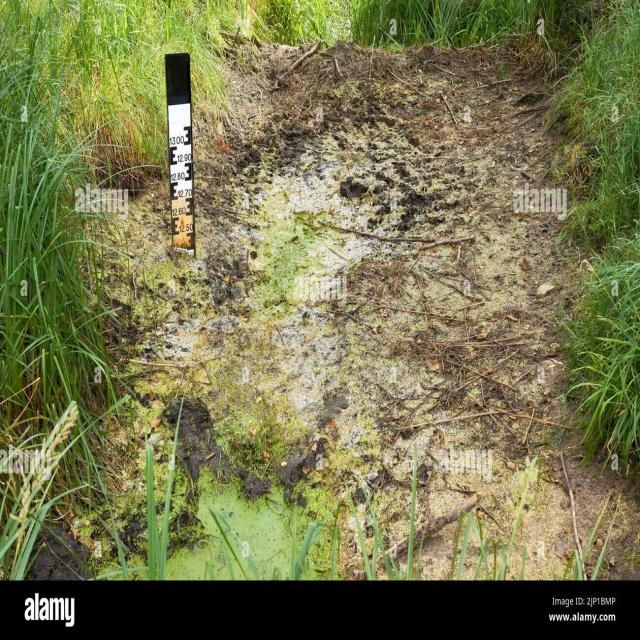ruler: (164, 97, 198, 258)
value: (172, 240, 189, 254), (177, 150, 192, 164), (171, 205, 187, 218), (171, 169, 185, 183), (169, 134, 185, 146), (178, 222, 194, 234), (178, 188, 193, 200)
